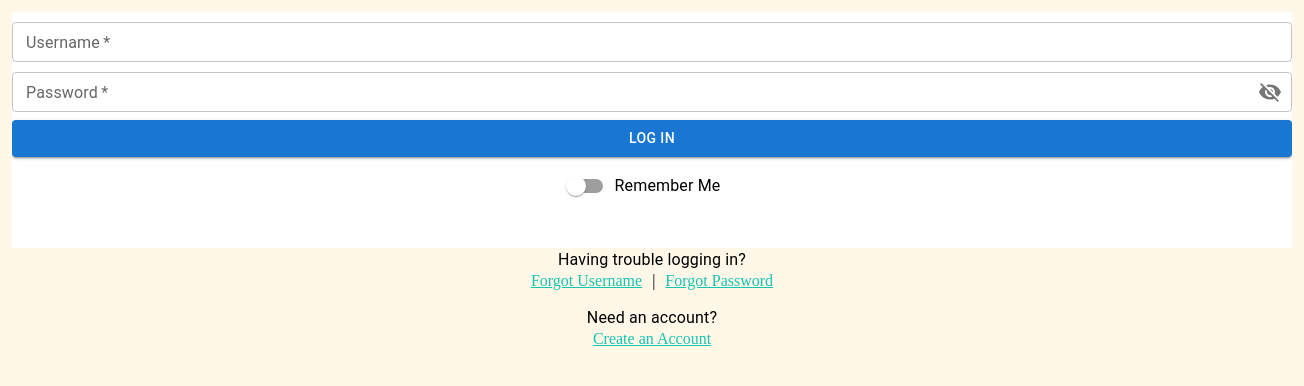
Test: LoginForm component › shows username and password do not match
Type "testuser" into the field labelled "Username *". click: (652, 42)
box: [12,22,1292,62]
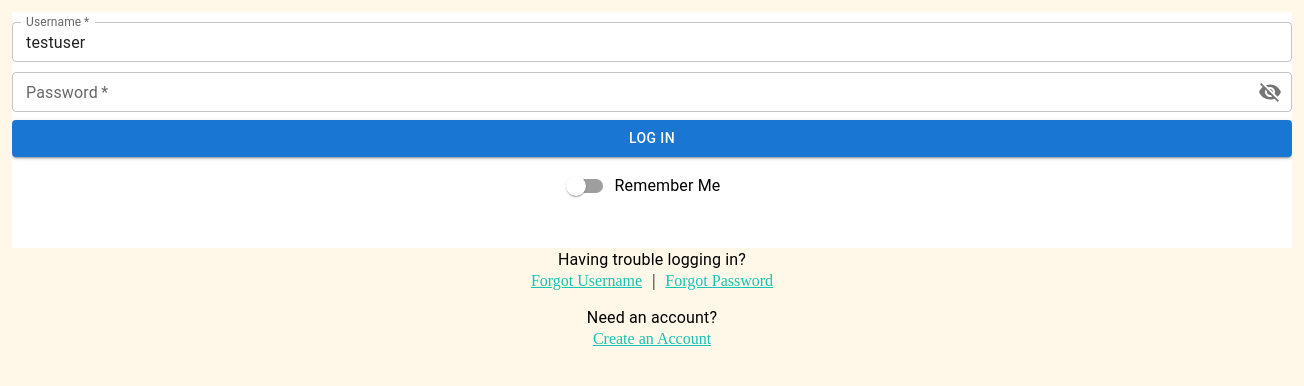
Type "Test123$" into the password field labelled "Password *". click: (627, 92)
box: [12,72,1242,112]
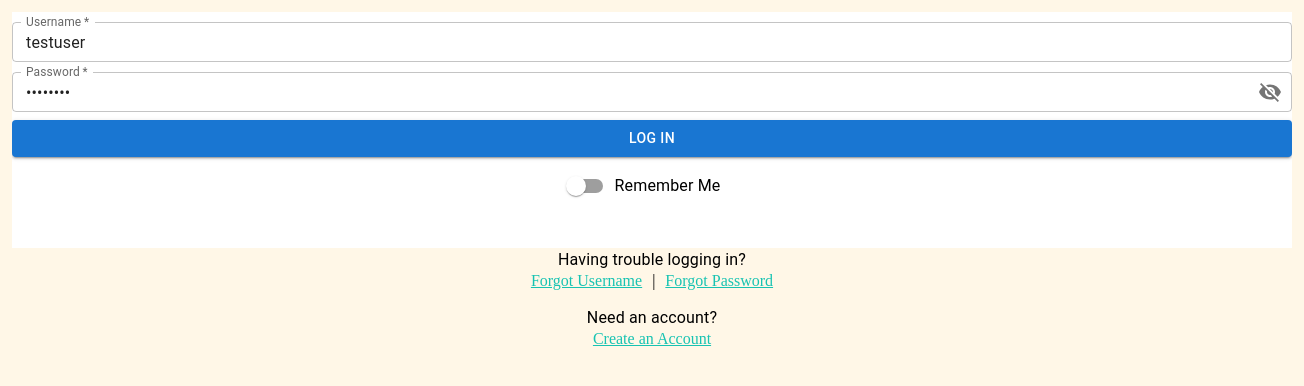
Click the button "Log In". click: (652, 138)
box: [12,120,1292,156]
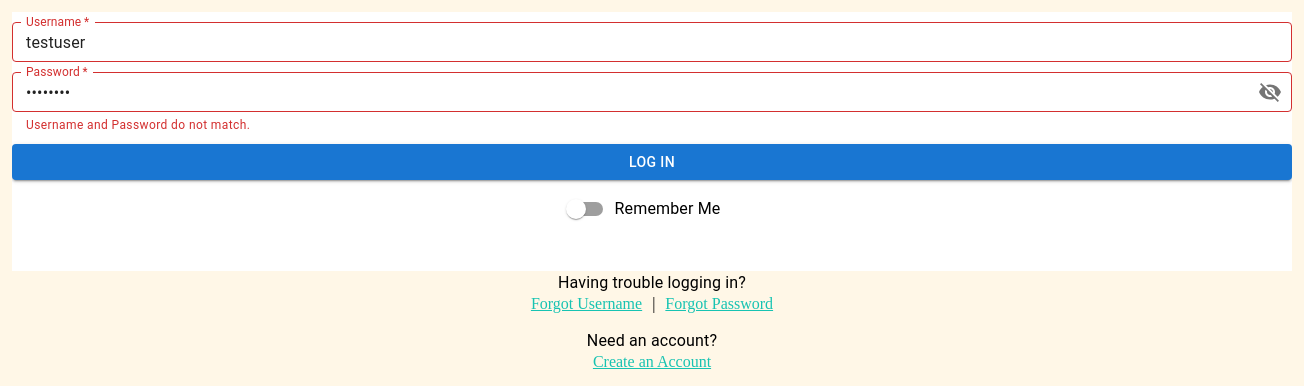
Expected: the text "Username and Password do not match." is shown, [26,118,250,132]
